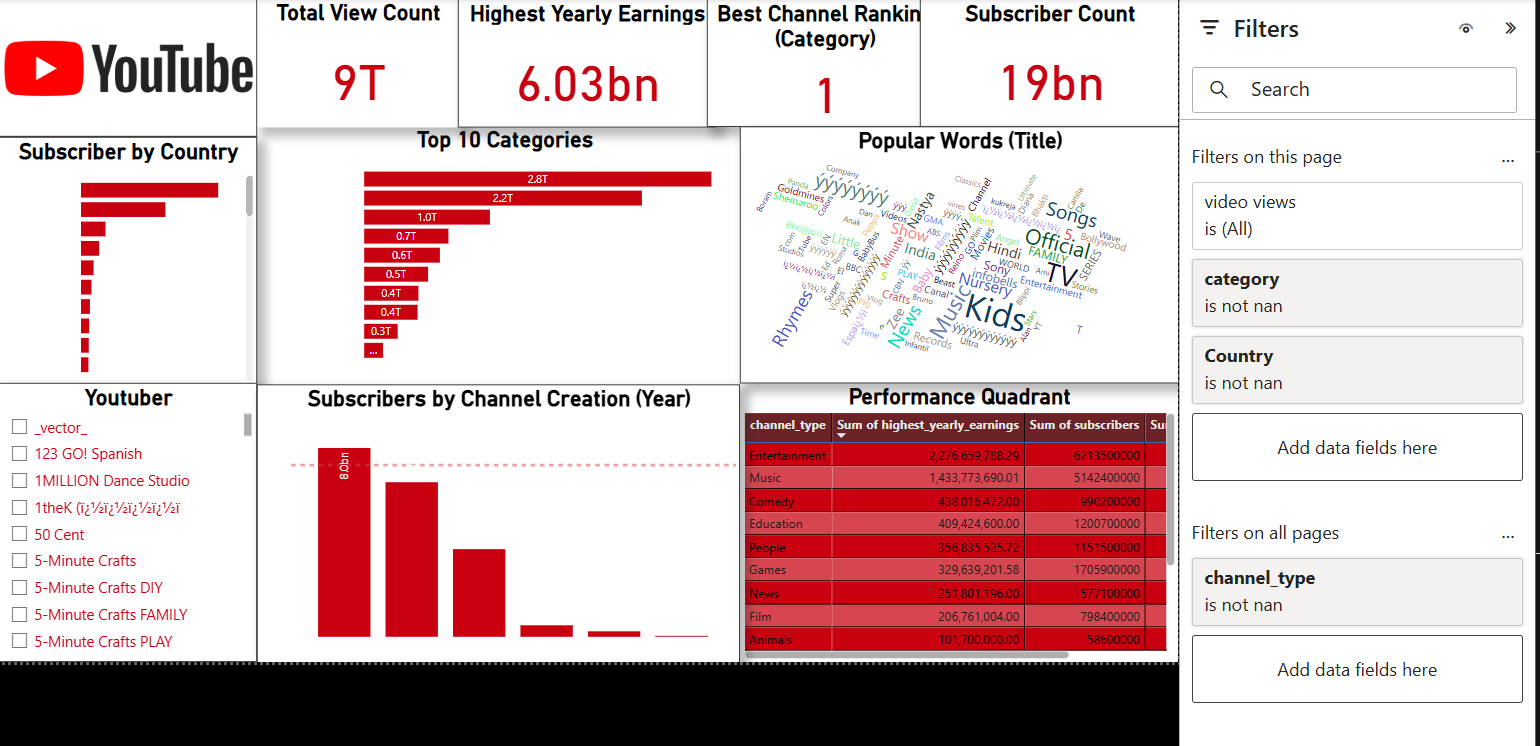

The page's visual inventory and layout, read from the dashboard file:
{"tool":"powerbi","page":{"name":"Dashbord","canvas":[1280,720],"ordinal":0},"visuals":[{"type":"barChart","title":"Top 10 Categories","fields":{"Y":["Global YouTube Statistics.video views"],"Category":["Global YouTube Statistics.category"]},"box":[279.9,139.1,538.4,288.2],"z":1000},{"type":"card","title":"Total View Count","fields":{"Values":["Global YouTube Statistics.video views"]},"box":[279.9,0,220.3,139.1],"z":2000},{"type":"card","title":"Highest Yearly Earnings","fields":{"Values":["Global YouTube Statistics.highest_yearly_earnings"]},"box":[498.6,0,279.9,139.1],"z":3000},{"type":"card","title":"Best Channel Ranking (Category)","fields":{"Values":["Global YouTube Statistics.rank"]},"box":[768.3,0,255.6,138.4],"z":4000},{"type":"barChart","title":"Subscriber by Country","fields":{"Category":["Global YouTube Statistics.Country"],"Y":["Global YouTube Statistics.subscribers"]},"box":[0,149.1,279.9,268.3],"z":5000},{"type":"card","title":"Subscriber Count","fields":{"Values":["Global YouTube Statistics.subscribers"]},"box":[999.5,0,281.6,138.4],"z":6000},{"type":"slicer","title":"Youtuber","fields":{"Values":["Global YouTube Statistics.Youtuber"]},"box":[0,416.7,280,302.8],"z":7000},{"type":"pivotTable","title":"Performance Quadrant","fields":{"Rows":["Global YouTube Statistics.channel_type"],"Values":["Global YouTube Statistics.highest_yearly_earnings","Global YouTube Statistics.subscribers","Global YouTube Statistics.video views"]},"box":[804.1,416.7,477,304.4],"z":8000},{"type":"clusteredColumnChart","title":"Subscribers by Channel Creation (Year)","fields":{"Category":["Global YouTube Statistics.Created Year"],"Y":["Global YouTube Statistics.subscribers"]},"box":[280,418.3,524.2,302.8],"z":9000},{"type":"WordCloud1447959067750","title":"Popular Words (Title)","fields":{"Category":["Global YouTube Statistics.Title"]},"box":[804.1,138.4,477,278.4],"z":10000},{"type":"image","box":[0,0,279.9,149.1],"z":10001}]}

Visuals, with their boxes on the page's 1280x720 design canvas (x1, y1, x2, y2). These are canvas units, not pixel positions in the 1540x746 screenshot, which may show the page scaled, cropped or inside an application window:
"Top 10 Categories" barChart: box(280, 139, 818, 427)
"Total View Count" card: box(280, 0, 500, 139)
"Highest Yearly Earnings" card: box(499, 0, 778, 139)
"Best Channel Ranking (Category)" card: box(768, 0, 1024, 138)
"Subscriber by Country" barChart: box(0, 149, 280, 417)
"Subscriber Count" card: box(1000, 0, 1281, 138)
"Youtuber" slicer: box(0, 417, 280, 720)
"Performance Quadrant" pivotTable: box(804, 417, 1281, 721)
"Subscribers by Channel Creation (Year)" clusteredColumnChart: box(280, 418, 804, 721)
"Popular Words (Title)" WordCloud1447959067750: box(804, 138, 1281, 417)
image: box(0, 0, 280, 149)
